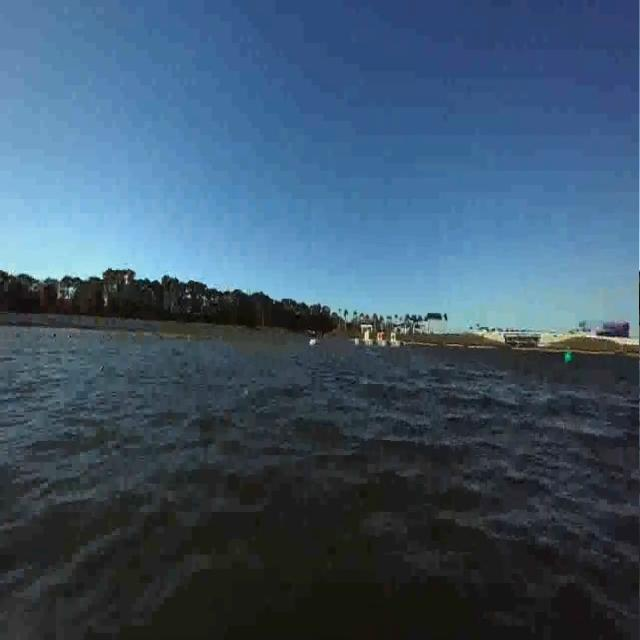green-buoy: (564, 351, 574, 365)
